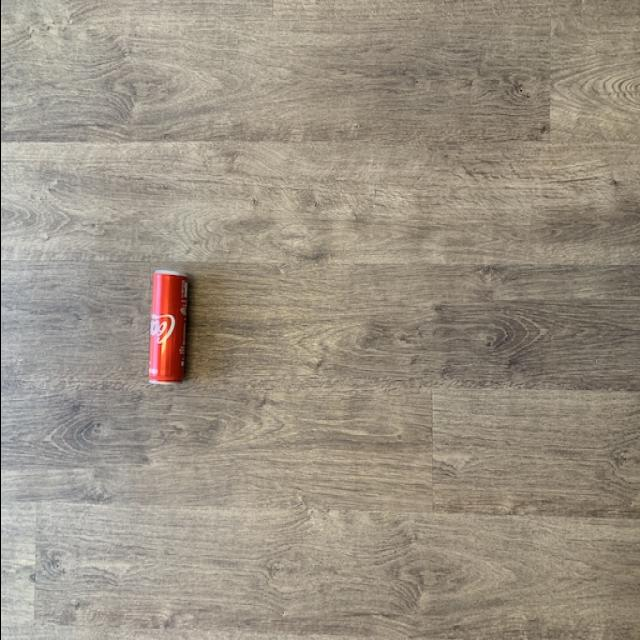Aluminum Can: (144, 270, 190, 386)
